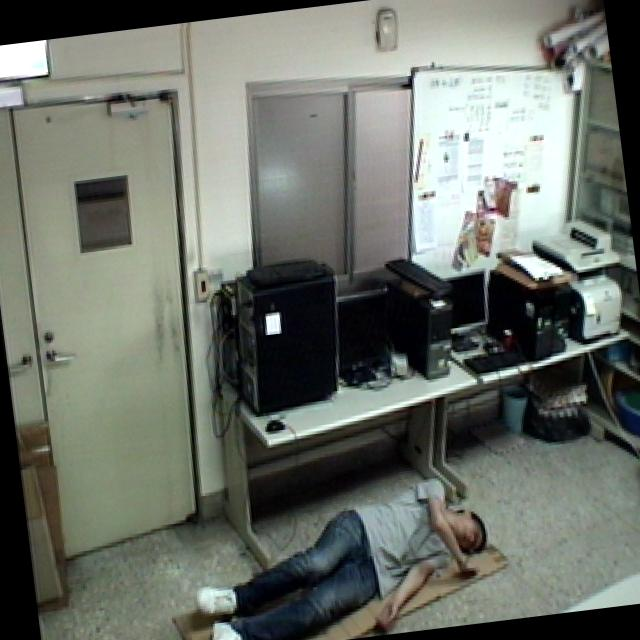lie: (166, 459, 509, 640)
